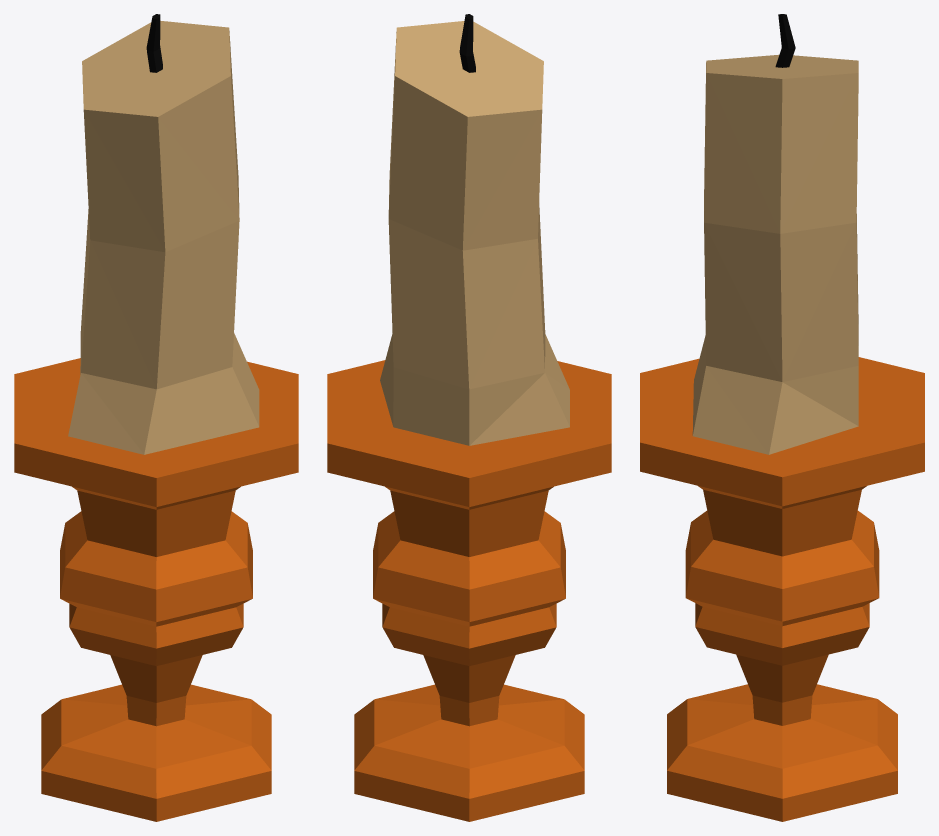
File: standCandle.obj
3 views of the same model, side by side, from view 1: azimuth 30°, elevation 25°; view 2: azimuth 150°, elevation 25°; view 3: azimuth 270°, elevation 25° (orthographic).
Parts seen in each view (by area): view 1: Candle_Cylinder.001; view 2: Candle_Cylinder.001; view 3: Candle_Cylinder.001.
Boxes of the visible parts, box(x1,y1,x2,y2) form: Candle_Cylinder.001: box(14, 14, 298, 821); Candle_Cylinder.001: box(327, 14, 611, 821); Candle_Cylinder.001: box(640, 14, 924, 821).
Bounding box in the file's own units: 0.3061 × 0.7728 × 0.2651.
